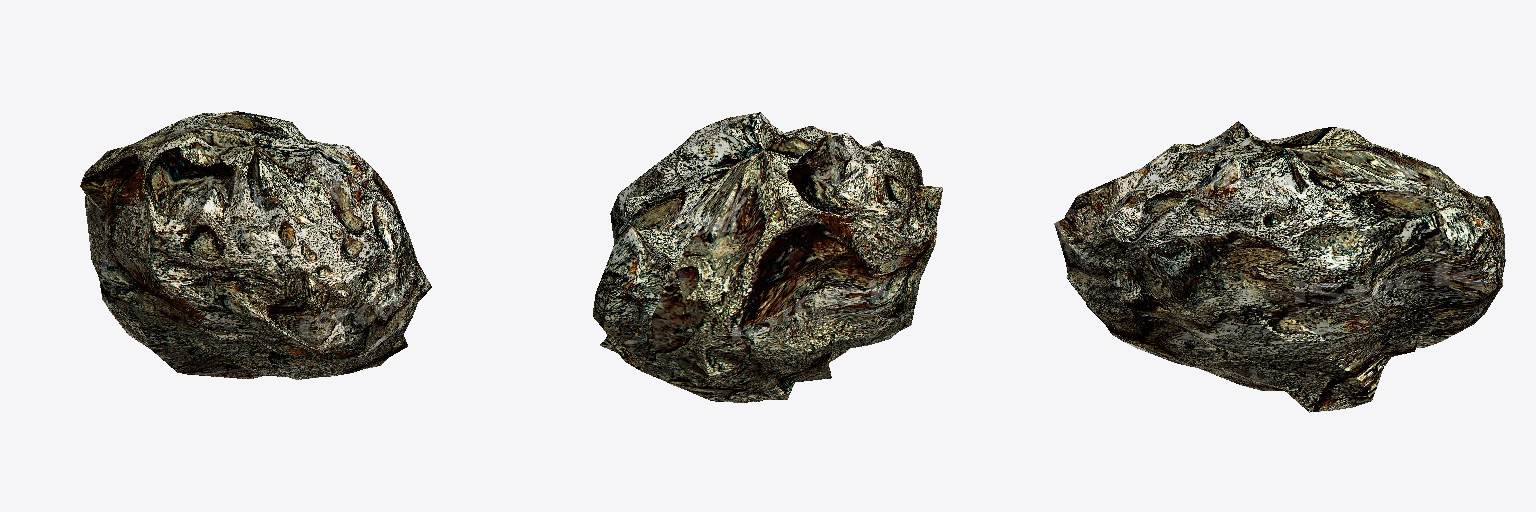
3 views of the same model, side by side, from view 1: azimuth 30°, elevation 25°; view 2: azimuth 150°, elevation 25°; view 3: azimuth 270°, elevation 25° (orthographic).
Parts seen in each view (by area): view 1: 球; view 2: 球; view 3: 球.
Part boxes in pixels (x1,y1,x2,y2): 球: (80,111,431,379); 球: (593,112,942,402); 球: (1054,121,1505,412).
Size of the model in its own units: 1.82 by 1.4 by 2.48.
1 materials, 1 textured.